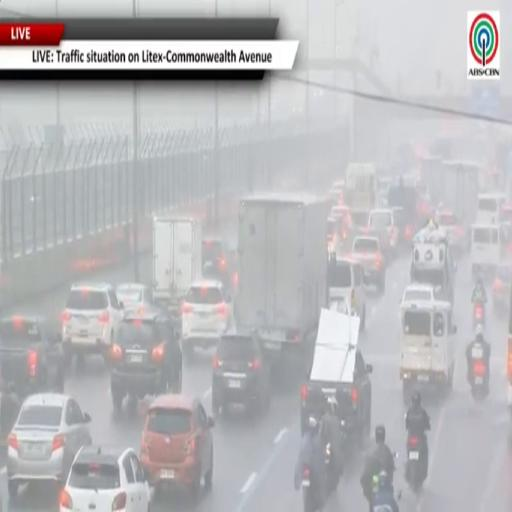car: (301, 310, 372, 446), (6, 394, 91, 499), (140, 395, 214, 497), (111, 310, 182, 411), (60, 445, 151, 511), (0, 316, 64, 398), (62, 283, 123, 365), (212, 334, 270, 415), (182, 280, 233, 357), (328, 258, 366, 331), (352, 236, 386, 293), (202, 237, 236, 291), (436, 208, 468, 252), (369, 208, 398, 254), (116, 283, 157, 313), (493, 264, 511, 311), (401, 283, 441, 303), (350, 208, 369, 235), (327, 179, 345, 207), (330, 205, 349, 221)
motorcycle: (406, 435, 426, 492), (301, 468, 320, 511), (471, 359, 488, 402), (325, 443, 339, 495), (473, 301, 485, 329), (366, 475, 378, 503)
truck: (236, 194, 327, 357), (400, 299, 456, 405), (152, 217, 202, 315), (411, 221, 456, 302), (442, 160, 483, 228), (345, 163, 378, 211), (420, 156, 444, 204)
